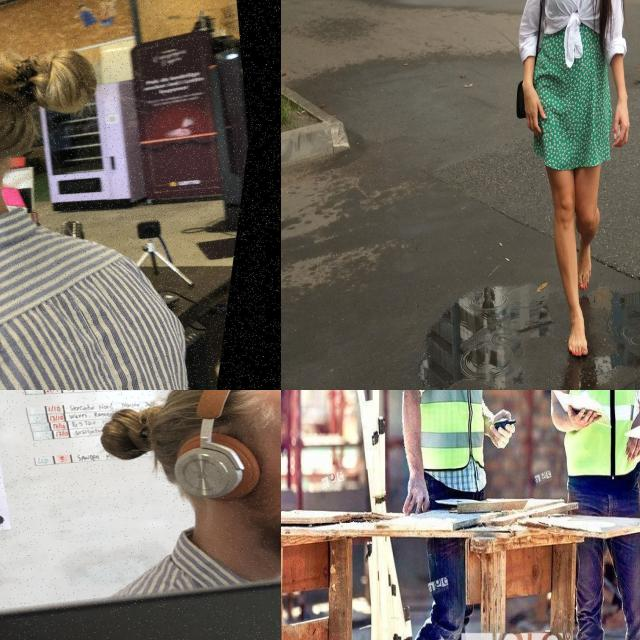Barefoots: (568, 312, 588, 356), (578, 231, 592, 291)
Ear-protection: (0, 7, 103, 301), (143, 429, 281, 509)
hand_noglove: (400, 469, 433, 517), (567, 398, 603, 434), (486, 413, 516, 452), (624, 422, 640, 460)
person: (562, 390, 640, 640), (413, 390, 486, 640)
vest: (416, 390, 481, 472), (569, 390, 640, 461)
